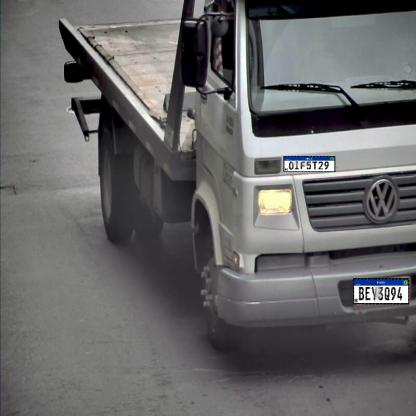PlacaM: (353, 278, 409, 304), (284, 156, 336, 172)
